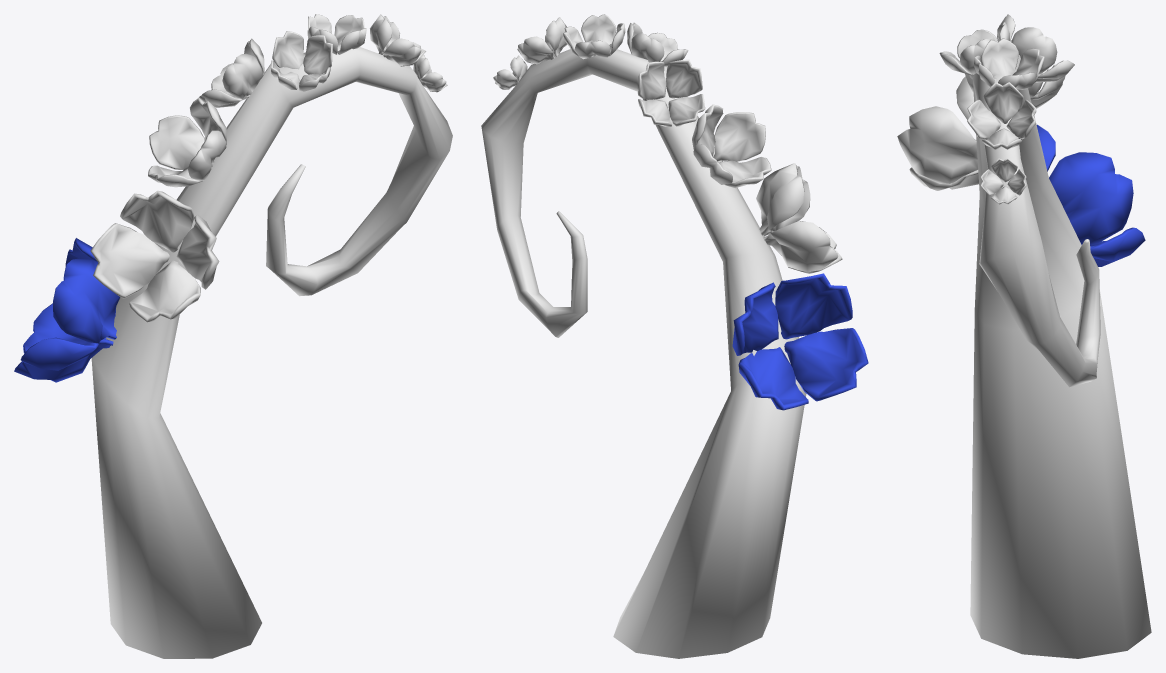
File: curledplantt.fbx
The picture shows the model from 3 angles, left to right: view 1: azimuth 30°, elevation 25°; view 2: azimuth 150°, elevation 25°; view 3: azimuth 270°, elevation 25°; orthographic projection. The views are drawn at different scales.
Parts seen in each view (by area): view 1: Cylinder.003, flowerlowpoly1, Circle.039, Circle.041, Circle.043, Circle.042, Circle.044, Circle.045, Circle.046; view 2: Cylinder.003, Circle.039, flowerlowpoly1, Circle.041, Circle.042, Circle.044, Circle.043, Circle.045, Circle.046; view 3: Cylinder.003, Circle.039, flowerlowpoly1, Circle.045, Circle.044, Circle.042, Circle.043, Circle.046, Circle.041.
Part boxes in pixels (<box>): Cylinder.003: <box>91,43,452,658</box>; flowerlowpoly1: <box>90,190,219,322</box>; Circle.039: <box>14,238,119,382</box>; Circle.041: <box>148,97,226,187</box>; Circle.043: <box>270,31,332,91</box>; Circle.042: <box>199,38,264,107</box>; Circle.044: <box>307,14,366,54</box>; Circle.045: <box>370,14,425,66</box>; Circle.046: <box>413,54,447,92</box>; Cylinder.003: <box>481,40,806,658</box>; Circle.039: <box>732,273,868,410</box>; flowerlowpoly1: <box>756,163,842,273</box>; Circle.041: <box>692,104,771,188</box>; Circle.042: <box>637,59,705,126</box>; Circle.044: <box>563,14,625,59</box>; Circle.043: <box>627,22,688,66</box>; Circle.045: <box>517,17,567,64</box>; Circle.046: <box>493,55,527,89</box>; Cylinder.003: <box>970,55,1151,658</box>; Circle.039: <box>1036,124,1145,266</box>; flowerlowpoly1: <box>897,76,978,190</box>; Circle.045: <box>967,82,1036,149</box>; Circle.044: <box>974,38,1044,89</box>; Circle.042: <box>997,14,1074,82</box>; Circle.043: <box>939,22,1009,75</box>; Circle.046: <box>980,158,1026,204</box>; Circle.041: <box>965,64,1065,108</box>.
Bounding box in the file's own units: 325 × 443 × 160.
